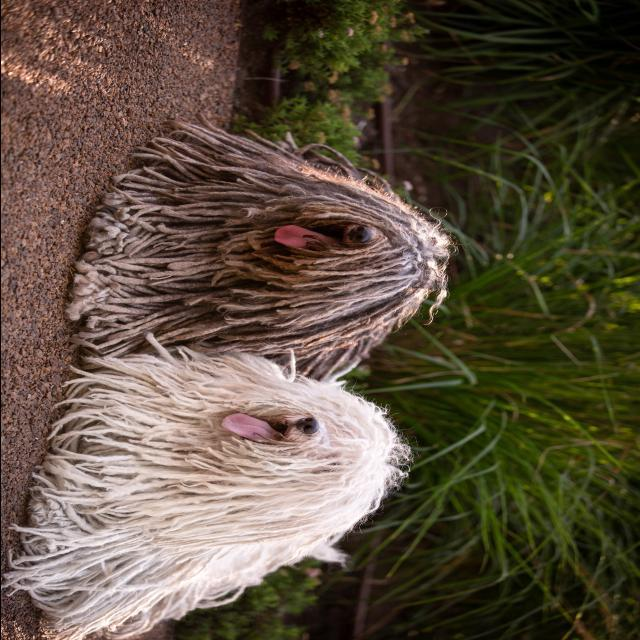Dogs: (67, 115, 455, 431), (0, 348, 415, 640)
